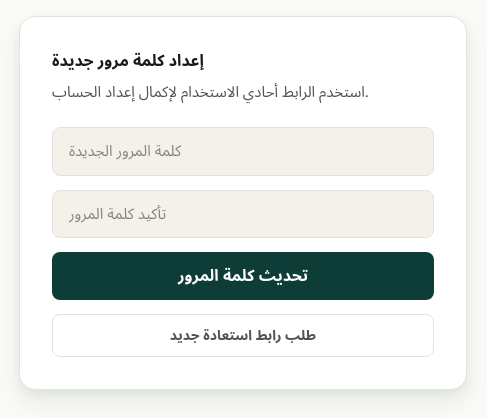
Test case: ResetPasswordPage › renders the success state after a successful reset
Type "Password123!" into the password field with placeholder "كلمة المرور الجديدة" at (243, 152), box [52,127,434,176]
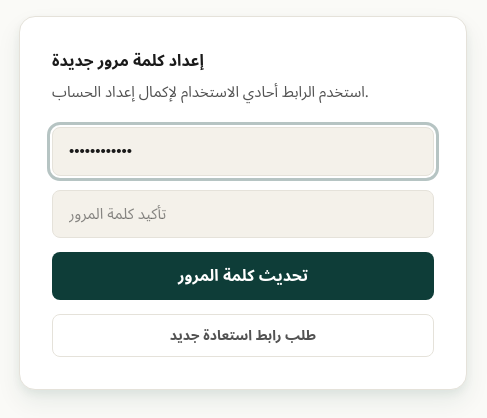
Type "Password123!" into the password field with placeholder "تأكيد كلمة المرور" at (243, 214), box [52,190,434,238]
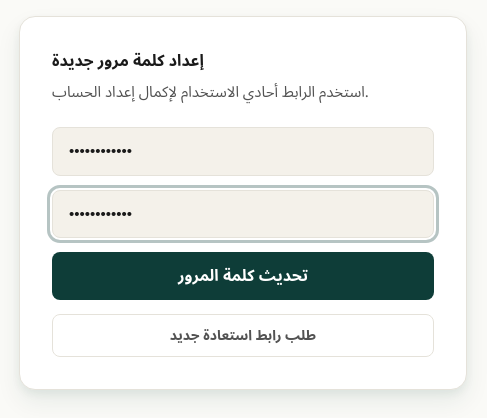
Click the button "تحديث كلمة المرور" at (243, 276), box [52,252,434,300]
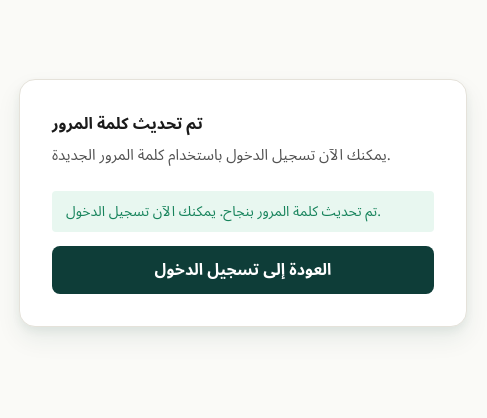
expect the heading "تم تحديث كلمة المرور" is shown: met, box [52,107,203,141]
